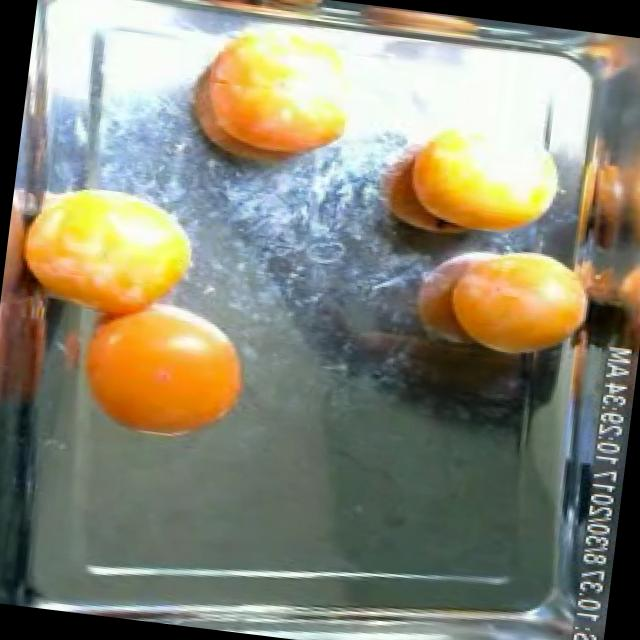Fruit: (0, 154, 222, 346), (161, 0, 381, 190), (380, 62, 592, 256), (55, 280, 267, 460), (396, 224, 606, 376)
